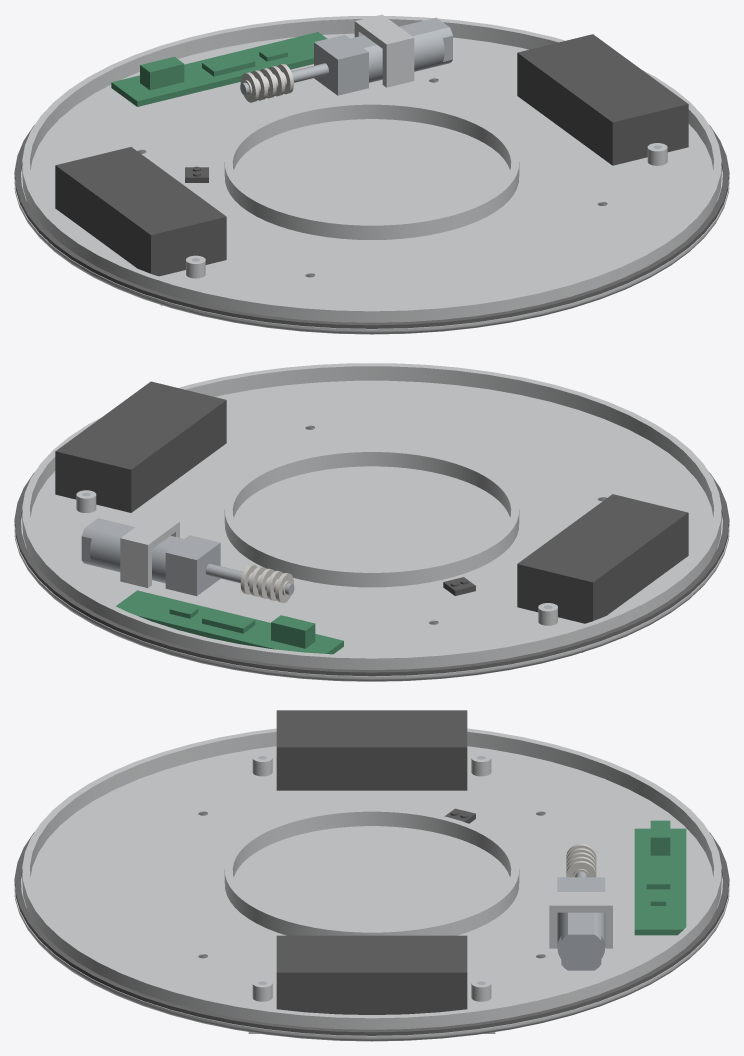
The model's file is step_04.glb.
3 views of the same model, one above another, from view 1: azimuth 30°, elevation 25°; view 2: azimuth 150°, elevation 25°; view 3: azimuth 270°, elevation 25° (orthographic).
Visible parts, largest first — view 1: part__bottom cover, part__battery holder, right, part__battery holder, left, part__base gasket, part__main circuit board, part__gear motor, part__motor clamp, part__worm; view 2: part__bottom cover, part__battery holder, right, part__battery holder, left, part__base gasket, part__main circuit board, part__gear motor, part__motor clamp, part__worm; view 3: part__bottom cover, part__battery holder, left, part__battery holder, right, part__base gasket, part__main circuit board, part__gear motor, part__motor clamp, part__worm.
Part boxes in pixels (left/top/right/bottom): part__bottom cover: left=14, top=16, right=729, bottom=334; part__battery holder, right: left=517, top=34, right=688, bottom=165; part__battery holder, left: left=55, top=147, right=226, bottom=276; part__base gasket: left=14, top=125, right=729, bottom=328; part__main circuit board: left=111, top=32, right=327, bottom=106; part__gear motor: left=240, top=17, right=452, bottom=95; part__motor clamp: left=354, top=14, right=414, bottom=87; part__worm: left=240, top=64, right=293, bottom=102; part__bottom cover: left=14, top=363, right=729, bottom=681; part__battery holder, right: left=55, top=381, right=226, bottom=512; part__battery holder, left: left=517, top=494, right=688, bottom=623; part__base gasket: left=14, top=472, right=729, bottom=676; part__main circuit board: left=116, top=590, right=343, bottom=654; part__gear motor: left=81, top=518, right=294, bottom=596; part__motor clamp: left=120, top=515, right=179, bottom=587; part__worm: left=240, top=564, right=293, bottom=603; part__bottom cover: left=14, top=728, right=729, bottom=1041; part__battery holder, left: left=276, top=710, right=467, bottom=790; part__battery holder, right: left=276, top=935, right=467, bottom=1014; part__base gasket: left=14, top=832, right=729, bottom=1035; part__main circuit board: left=634, top=820, right=686, bottom=935; part__gear motor: left=557, top=871, right=605, bottom=970; part__motor clamp: left=549, top=892, right=612, bottom=948; part__worm: left=566, top=844, right=596, bottom=877.
Bounding box in the file's own units: 180 × 17 × 180.
